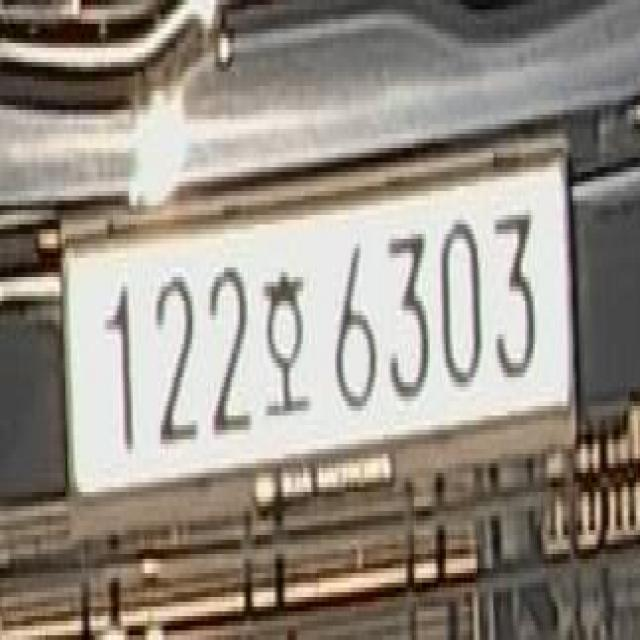illegal_plate: (67, 148, 579, 513)
